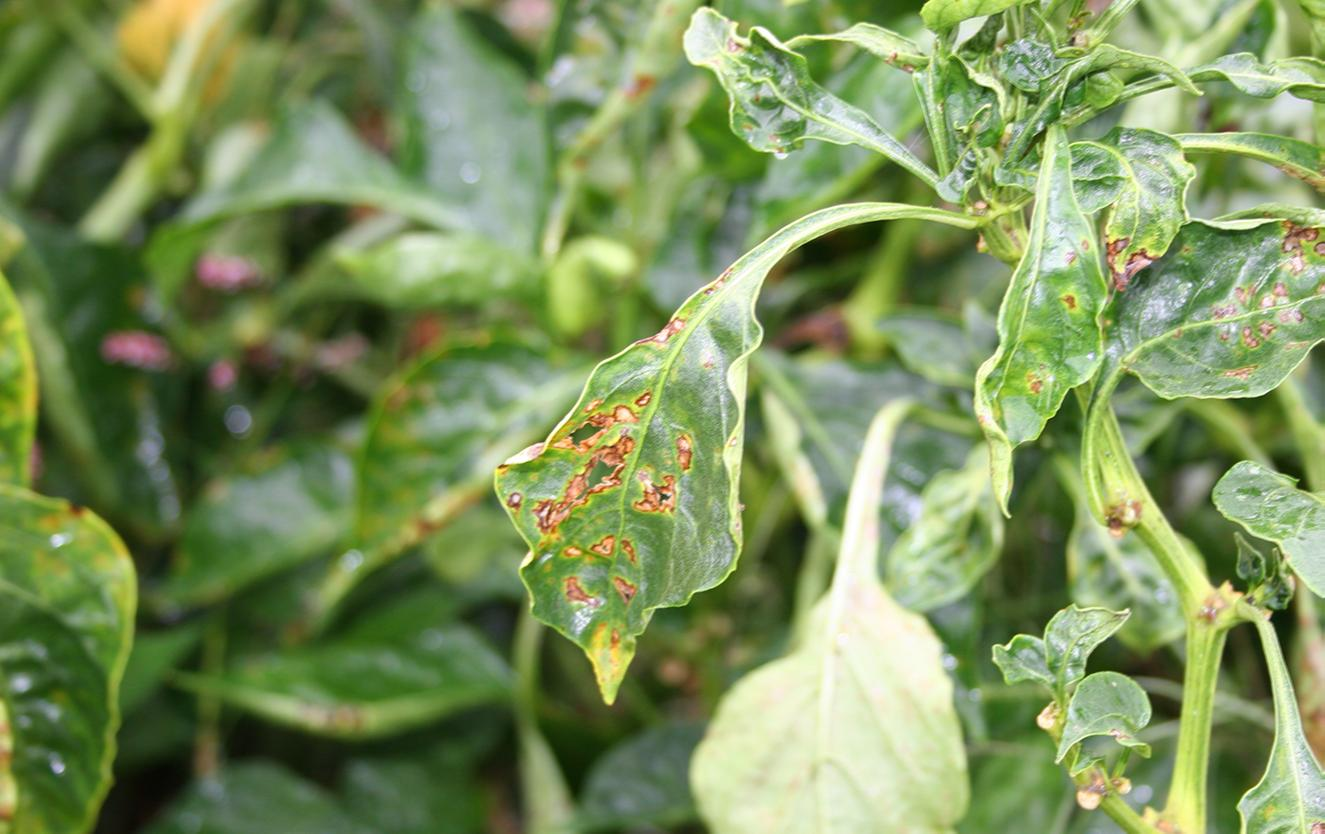Tomato leaf bacterial spot: (473, 237, 816, 710), (0, 446, 157, 834), (945, 150, 1125, 459), (1133, 174, 1325, 403)
